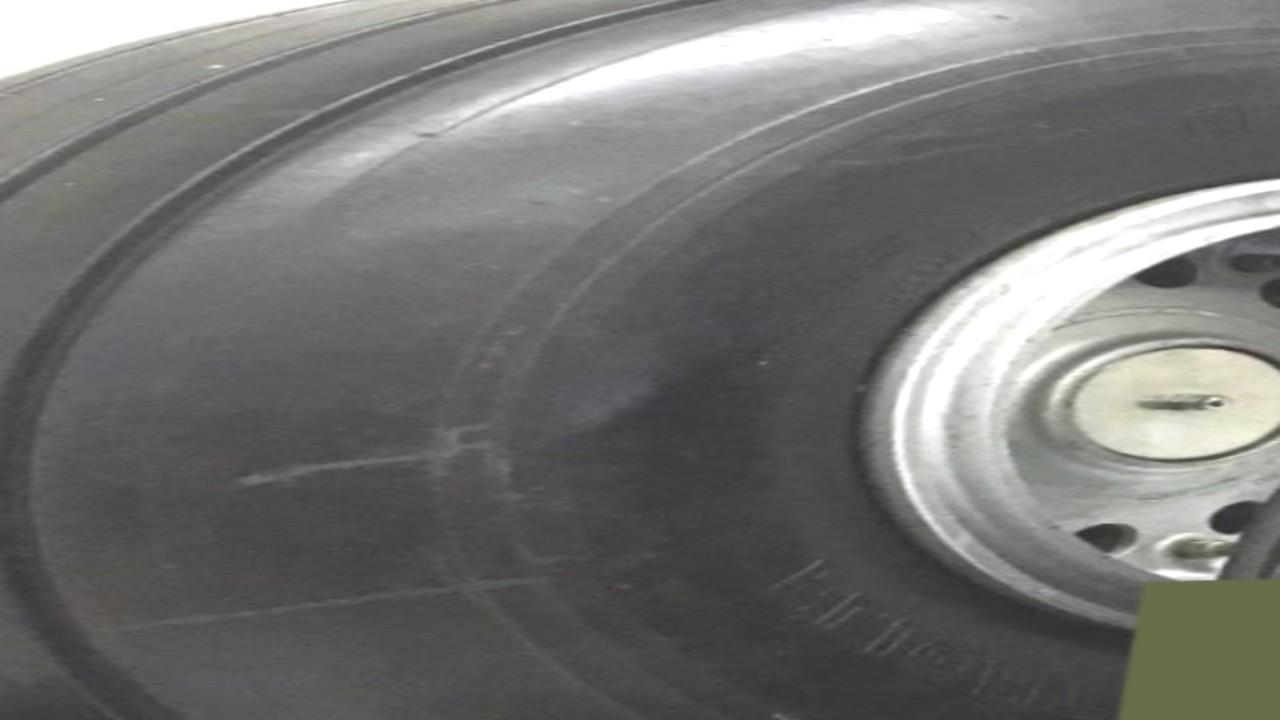wheel: (0, 0, 1280, 720), (1124, 253, 1280, 720)
